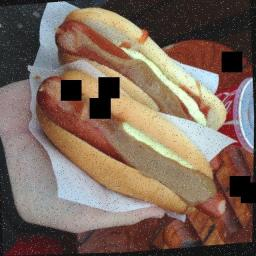hotdog: (36, 74, 124, 171), (51, 16, 128, 84), (191, 186, 229, 218)
